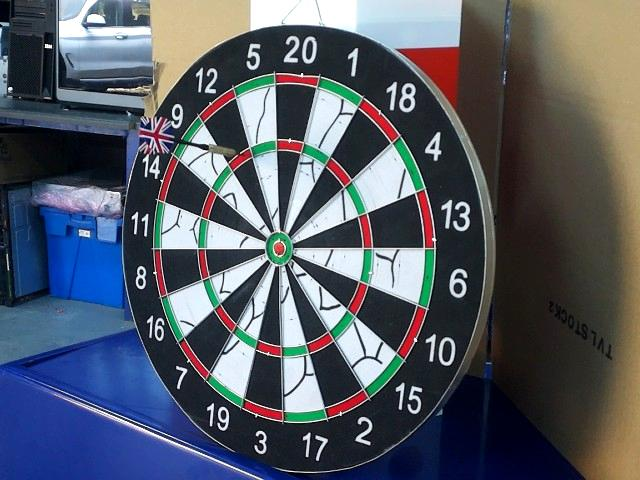triple_12: (230, 150, 252, 167)
